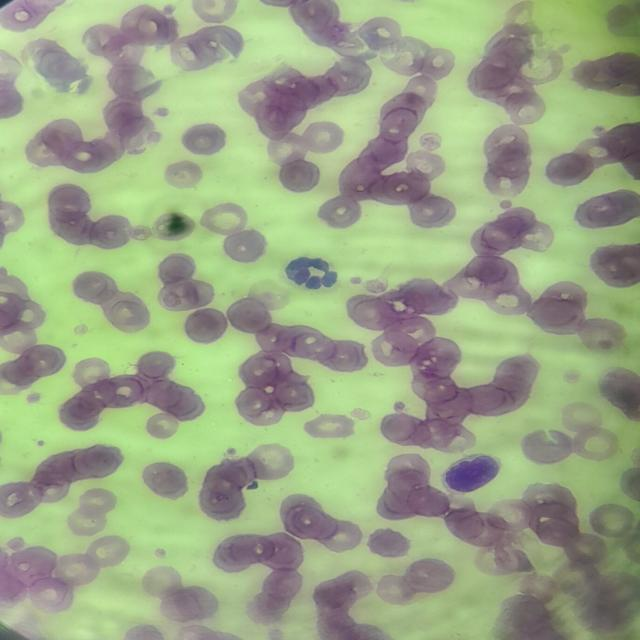Neutrofilo: (273, 247, 352, 294)
